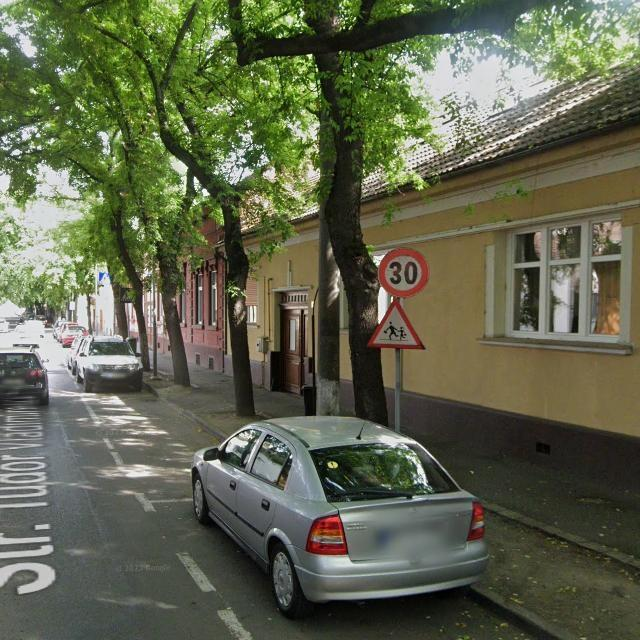forb_speed_over_30: (378, 247, 429, 297)
